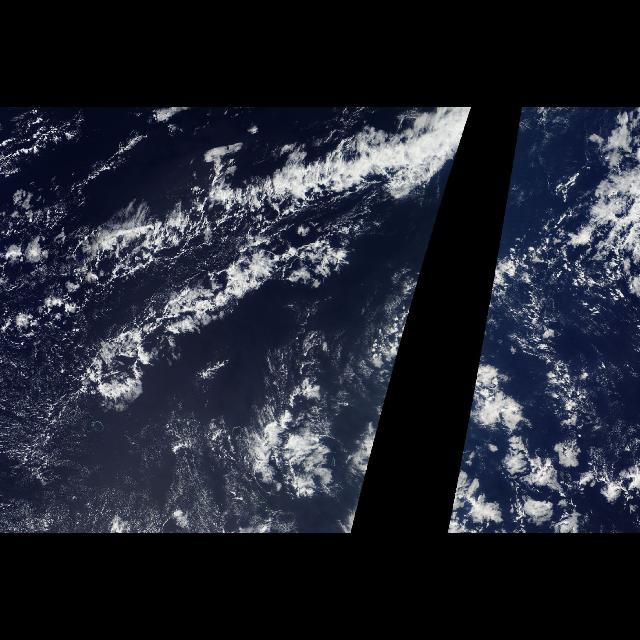Fish: (10, 108, 468, 426), (486, 122, 522, 310)
Flower: (446, 272, 634, 530), (246, 272, 422, 530)
Sugar: (1, 411, 256, 533)
